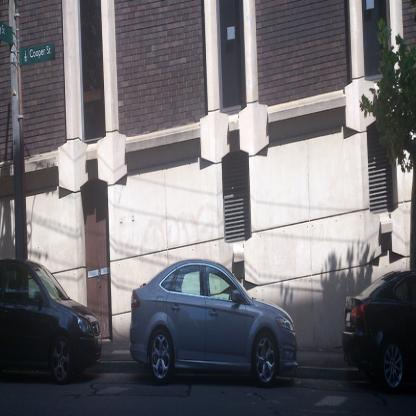Car: (120, 255, 304, 386), (1, 259, 104, 381), (339, 267, 416, 398)
